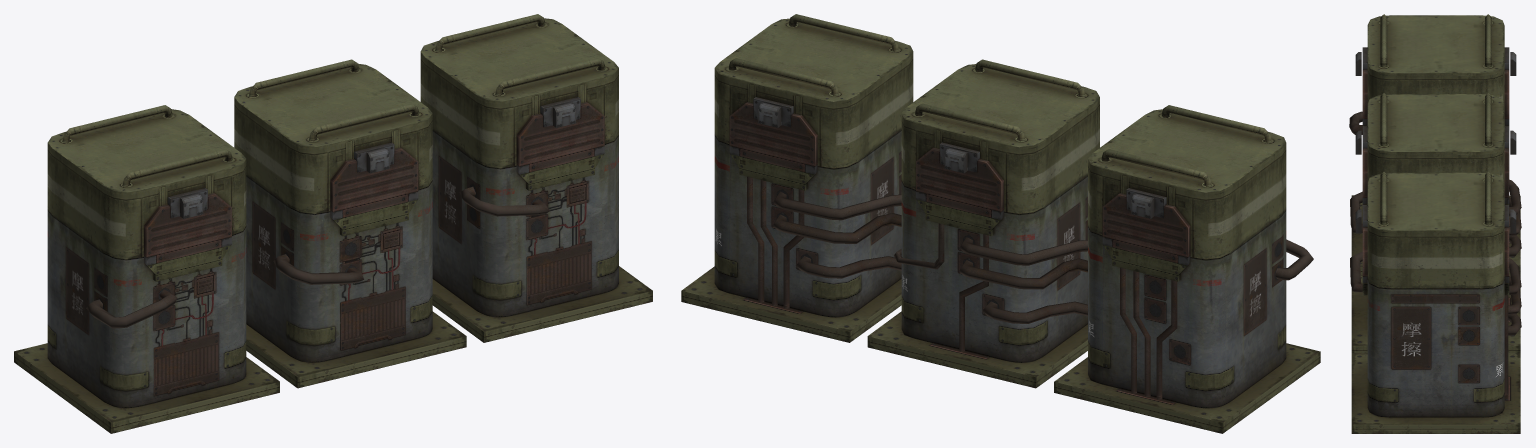
The model's file is generator_radio.dae.
3 views of the same model, side by side, from view 1: azimuth 30°, elevation 25°; view 2: azimuth 150°, elevation 25°; view 3: azimuth 270°, elevation 25° (orthographic). The views are drawn at different scales.
Parts seen in each view (by area): view 1: generator_radio; view 2: generator_radio; view 3: generator_radio.
Boxes of the visible parts, x1,y1,x2,y2 form: generator_radio: [14, 14, 652, 433]; generator_radio: [681, 14, 1320, 433]; generator_radio: [1349, 14, 1521, 433].
Bounding box in the file's own units: 10.01 × 4.22 × 3.18.
Materials: 1 (1 with a texture image).
